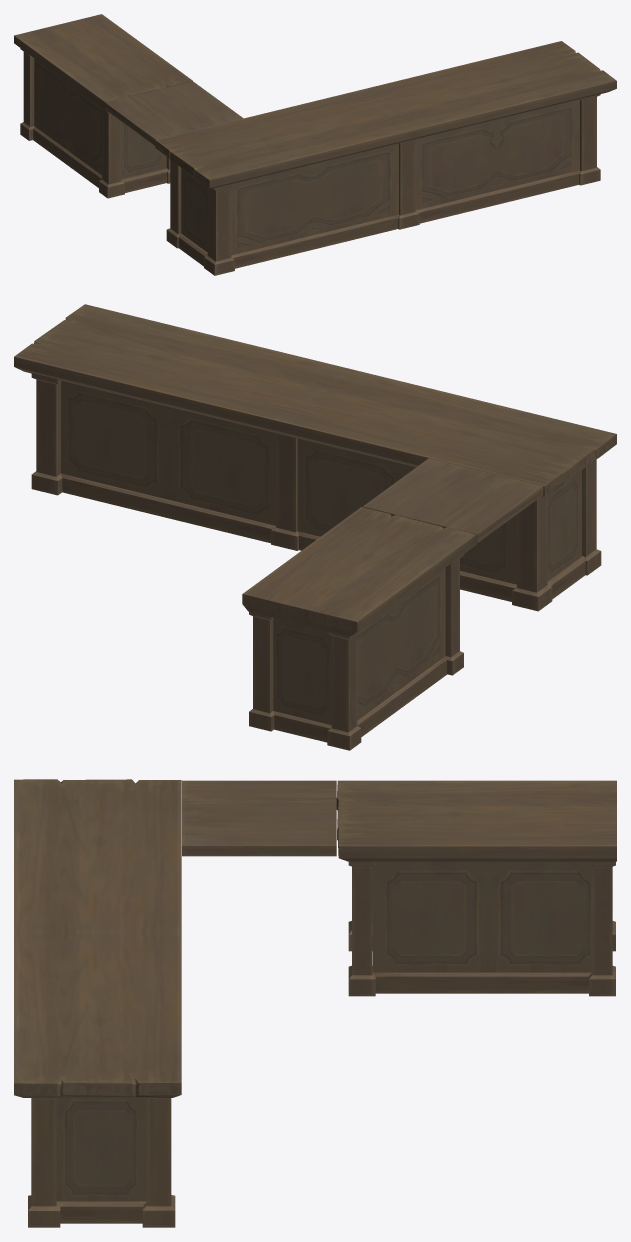
Rendered from Homeworld_Interior_Md_Table_Counter_01_Vo.fbx.
3 views of the same model, one above another, from view 1: azimuth 30°, elevation 25°; view 2: azimuth 150°, elevation 25°; view 3: azimuth 270°, elevation 25° (orthographic). The views are drawn at different scales.
Visible parts, largest first — view 1: Homeworld_Interior_Md_Table_Counter_01_Vo; view 2: Homeworld_Interior_Md_Table_Counter_01_Vo; view 3: Homeworld_Interior_Md_Table_Counter_01_Vo.
Part boxes in pixels (bbox=[...]): Homeworld_Interior_Md_Table_Counter_01_Vo: bbox=[14, 14, 616, 275]; Homeworld_Interior_Md_Table_Counter_01_Vo: bbox=[14, 304, 616, 750]; Homeworld_Interior_Md_Table_Counter_01_Vo: bbox=[14, 779, 616, 1227].
Bounding box in the file's own units: 4.26 × 1 × 3.56.
